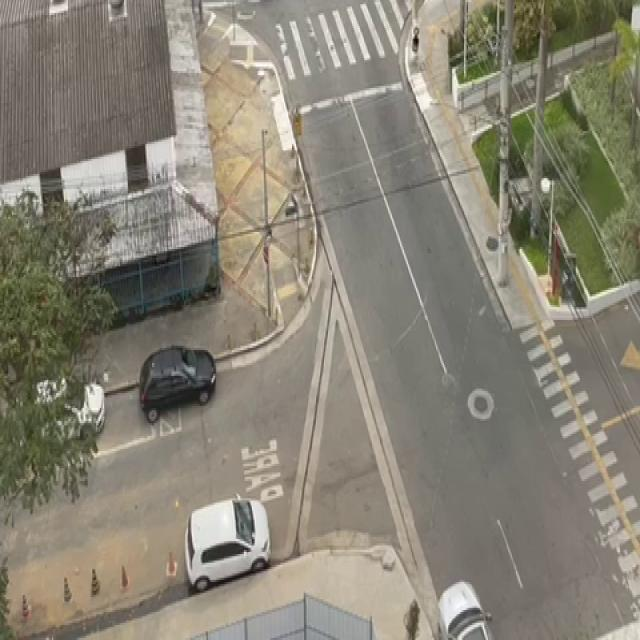car: (180, 490, 274, 598), (134, 342, 218, 428), (432, 575, 500, 640)
